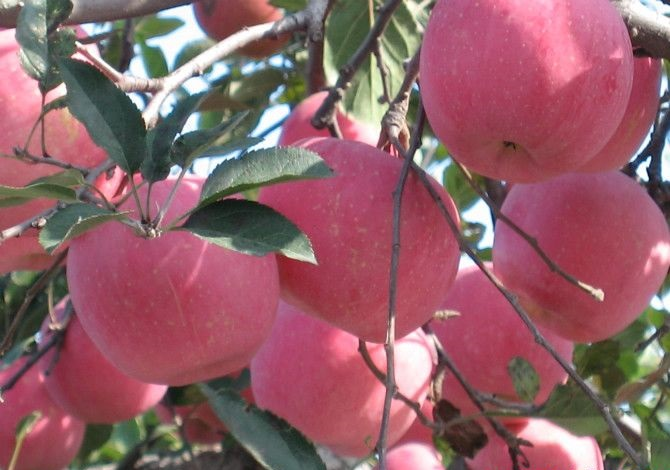apple: (68, 177, 283, 386), (249, 135, 461, 345), (419, 1, 635, 182), (1, 1, 130, 270), (468, 1, 660, 172), (248, 292, 435, 457), (494, 168, 670, 343), (433, 261, 573, 415), (39, 291, 173, 424), (275, 87, 395, 217), (1, 351, 83, 470), (469, 415, 607, 470), (192, 1, 308, 57)
